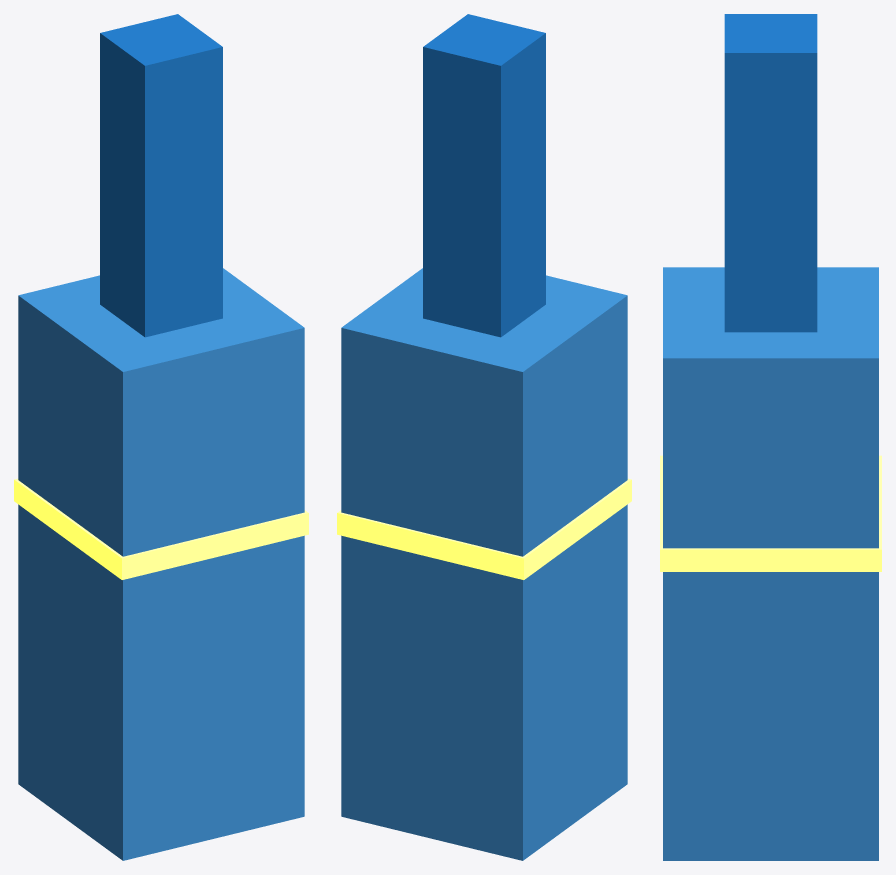
Rendered from deco_city_3.glb.
3 renders of one model, left to right at view 1: azimuth 30°, elevation 25°; view 2: azimuth 150°, elevation 25°; view 3: azimuth 270°, elevation 25°, orthographic. The views are drawn at different scales.
Parts seen in each view (by area): view 1: deco_city_3; view 2: deco_city_3; view 3: deco_city_3.
Part boxes in pixels (bbox=[...]): deco_city_3: bbox=[14, 14, 308, 860]; deco_city_3: bbox=[337, 14, 631, 860]; deco_city_3: bbox=[660, 14, 881, 860].
Size of the model in its own units: 3.6 by 14 by 3.6.
